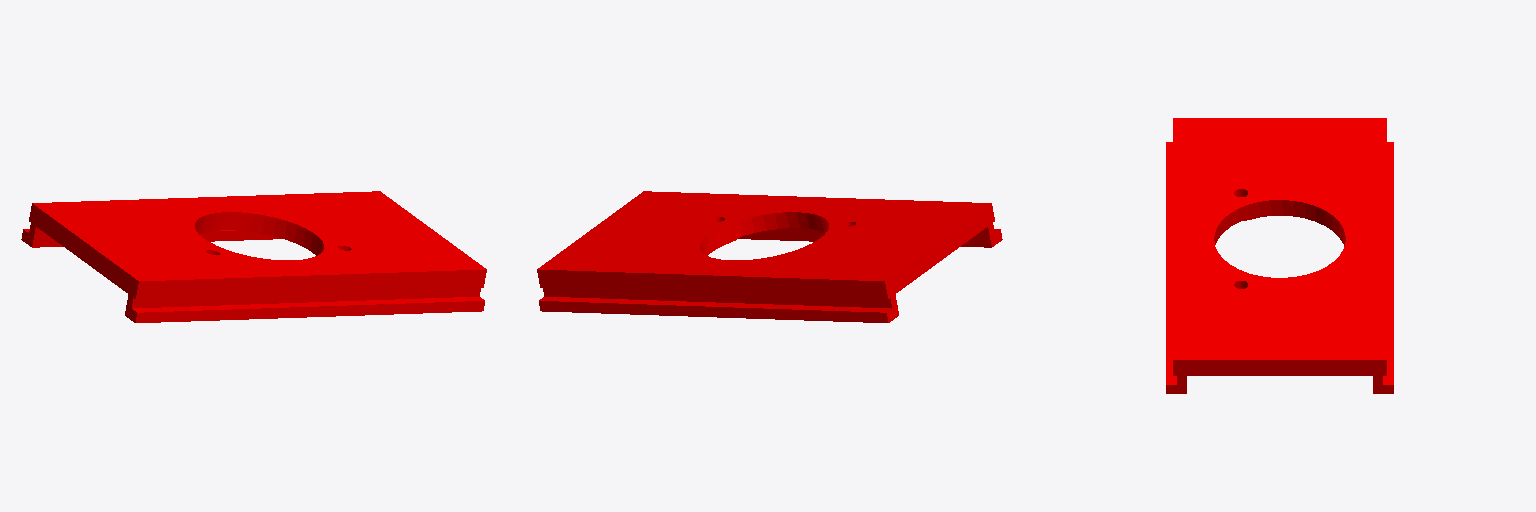
The model's file is gRail_b.obj.
3 views of the same model, side by side, from view 1: azimuth 30°, elevation 25°; view 2: azimuth 150°, elevation 25°; view 3: azimuth 270°, elevation 25° (orthographic).
Size of the model in its own units: 71.66 by 21.31 by 39.83.